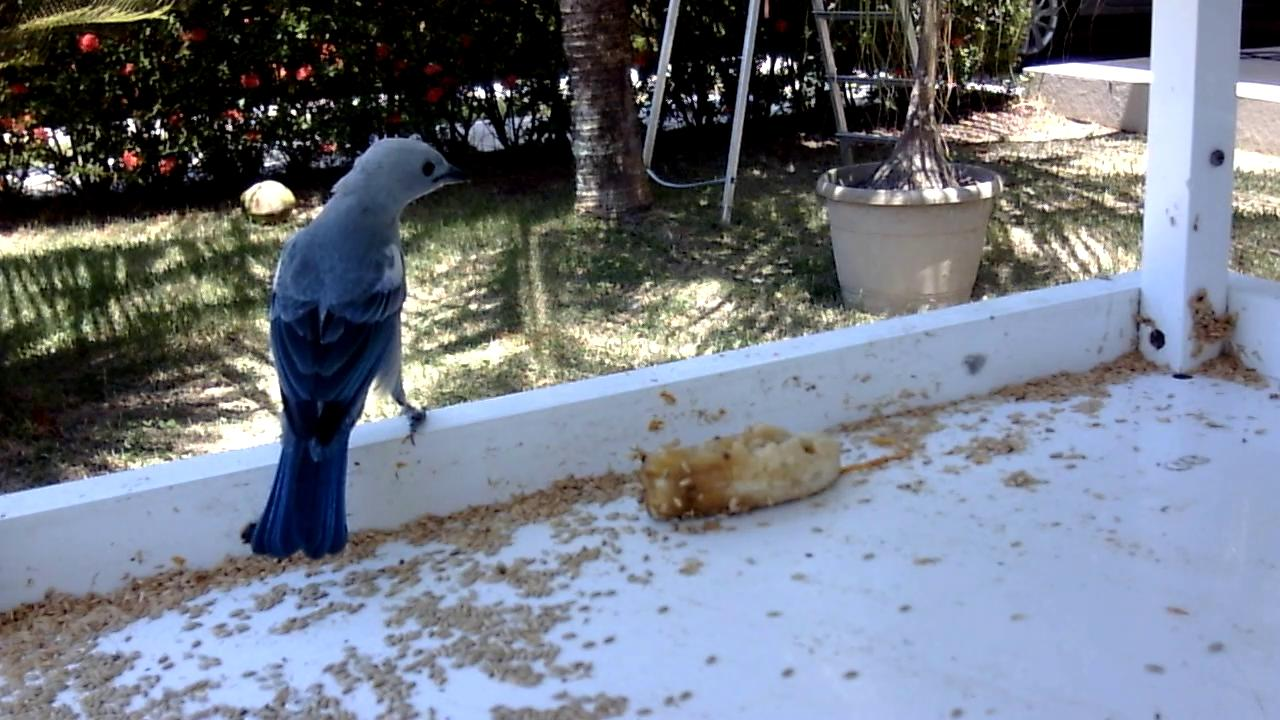sanhaco_da_amazonia: (251, 137, 475, 563)
